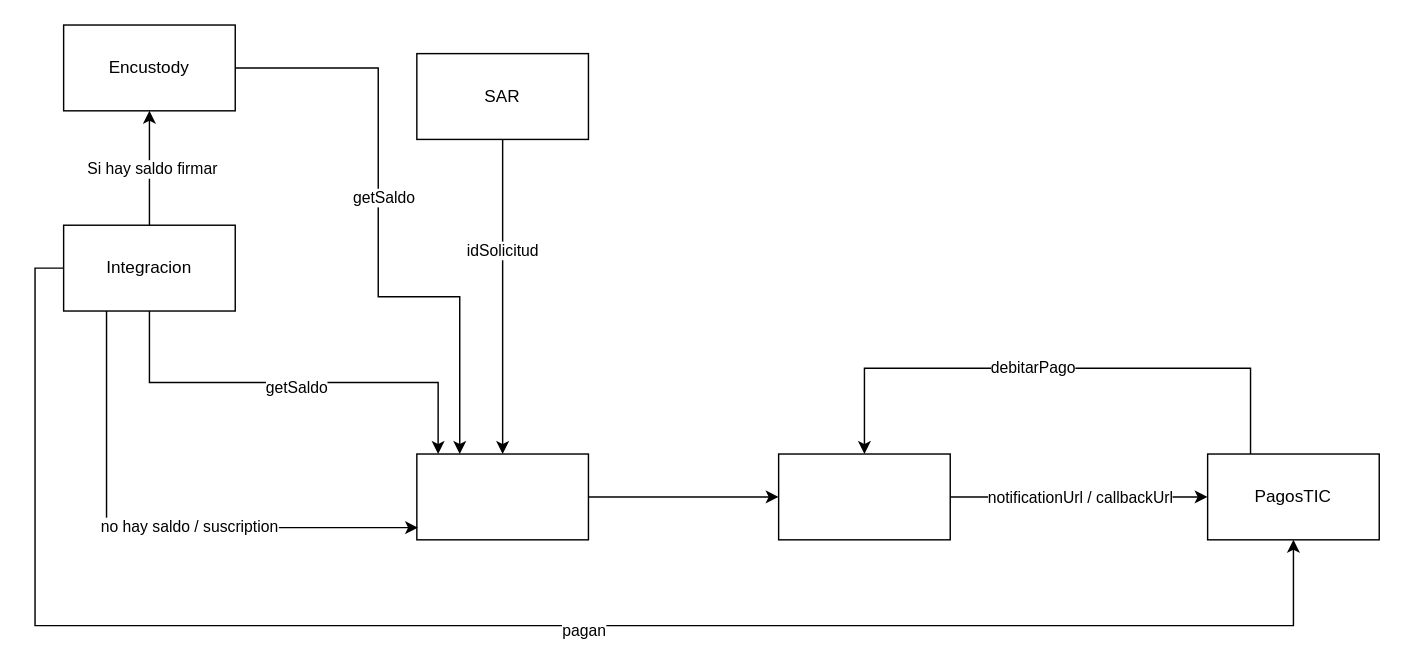
The diagram is 1404 pixels wide and 665 high, and some of its shapes have lost their labels. The shapes that lost their labels are listed below. From the top down, each one's centre as x and y in pixels, then its label:
At point (501, 496): "Billing".
At point (863, 496): "Vepesa".
